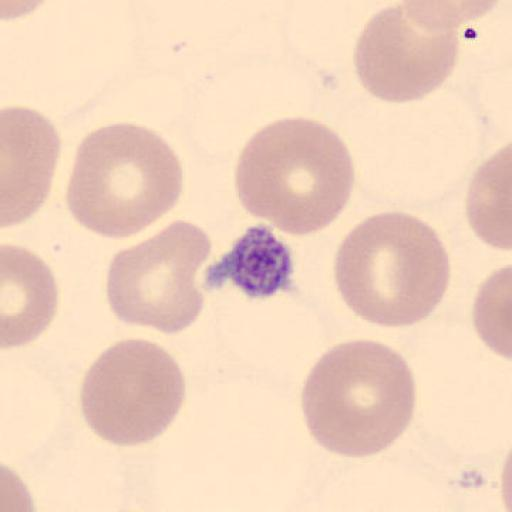Platelet: (205, 223, 300, 300)
RBC: (234, 115, 356, 238), (332, 209, 452, 331), (65, 120, 185, 242), (300, 337, 418, 460), (103, 217, 213, 336), (78, 337, 188, 447), (352, 2, 462, 104), (2, 104, 62, 229), (2, 242, 59, 349), (465, 142, 512, 254), (471, 260, 512, 362), (400, 0, 506, 30), (1, 462, 36, 512), (2, 0, 59, 21), (499, 437, 512, 512)
